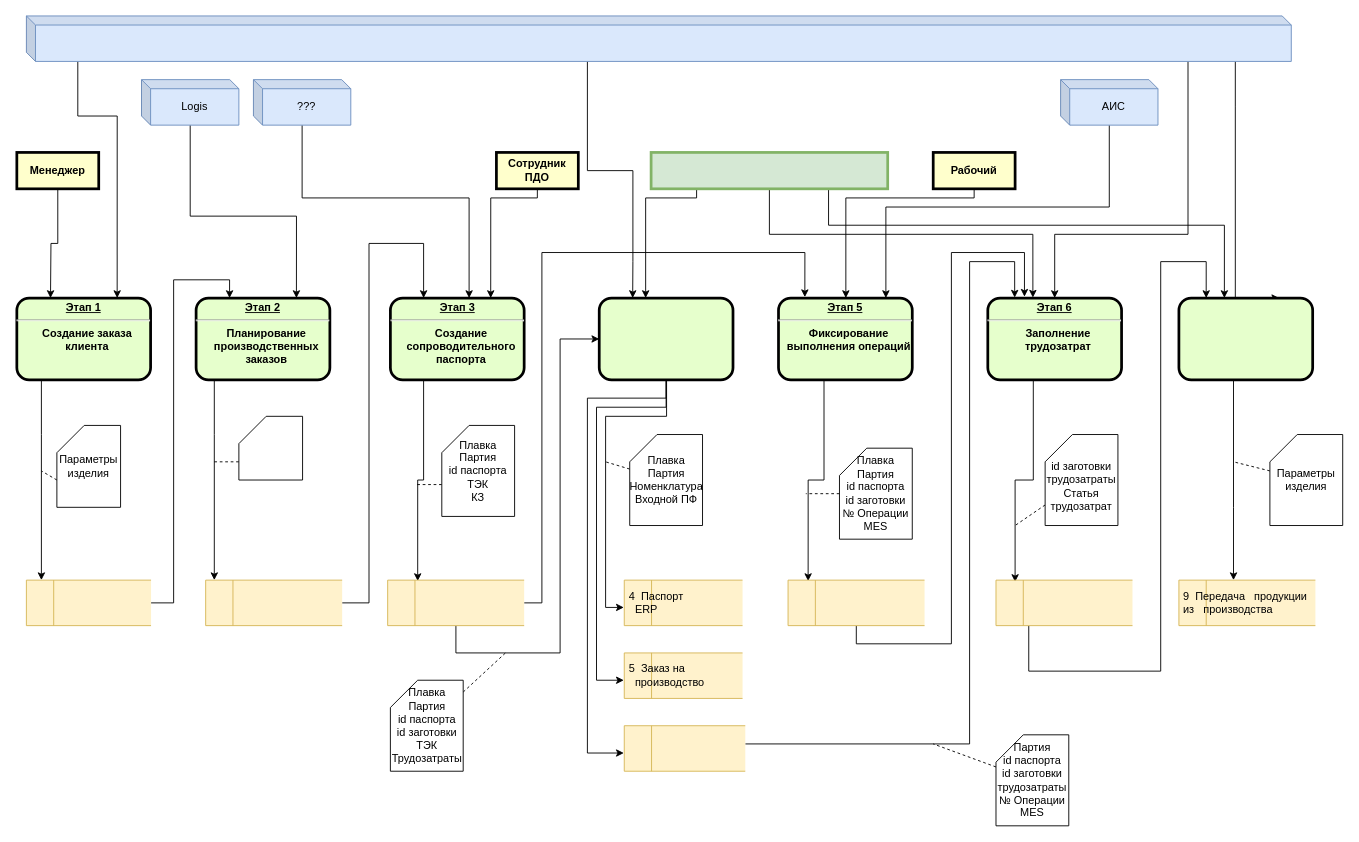
Image size: 1359x842. Some labels were removed from this diagram. Each missing label, with the box of its shape:
1 Заказ клиента: (25, 579, 151, 626)
2 Производственный заказ: (205, 579, 342, 626)
3 Сопроводительный паспорт: (387, 579, 524, 626)
6 Этап производства: (623, 725, 745, 771)
7 Производственная операция MES: (787, 579, 925, 626)
8 Этап Заполненный: (995, 579, 1132, 626)
ERP: (25, 15, 1291, 61)
Интеграция: (649, 151, 889, 190)
ТЭК КЗ: (238, 415, 303, 480)
Этап 4 Создание заказа на производство: (597, 296, 734, 381)
Этап 7 Выпуск продукции: (1177, 296, 1314, 381)
